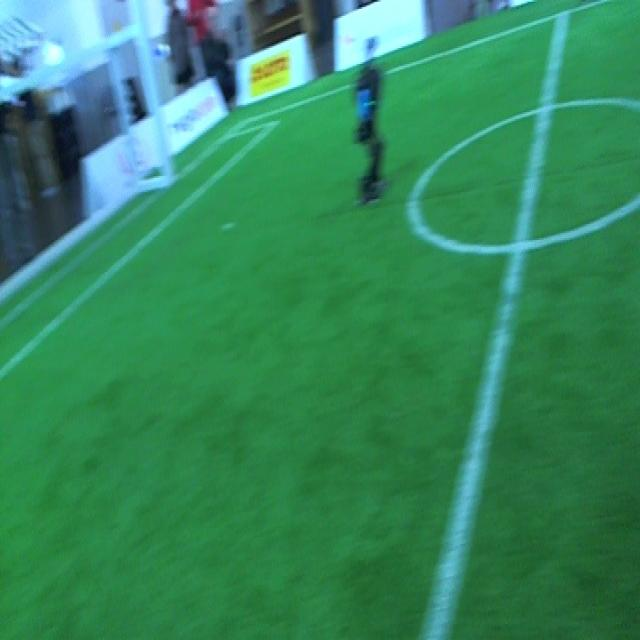goalpost: (126, 3, 176, 186)
